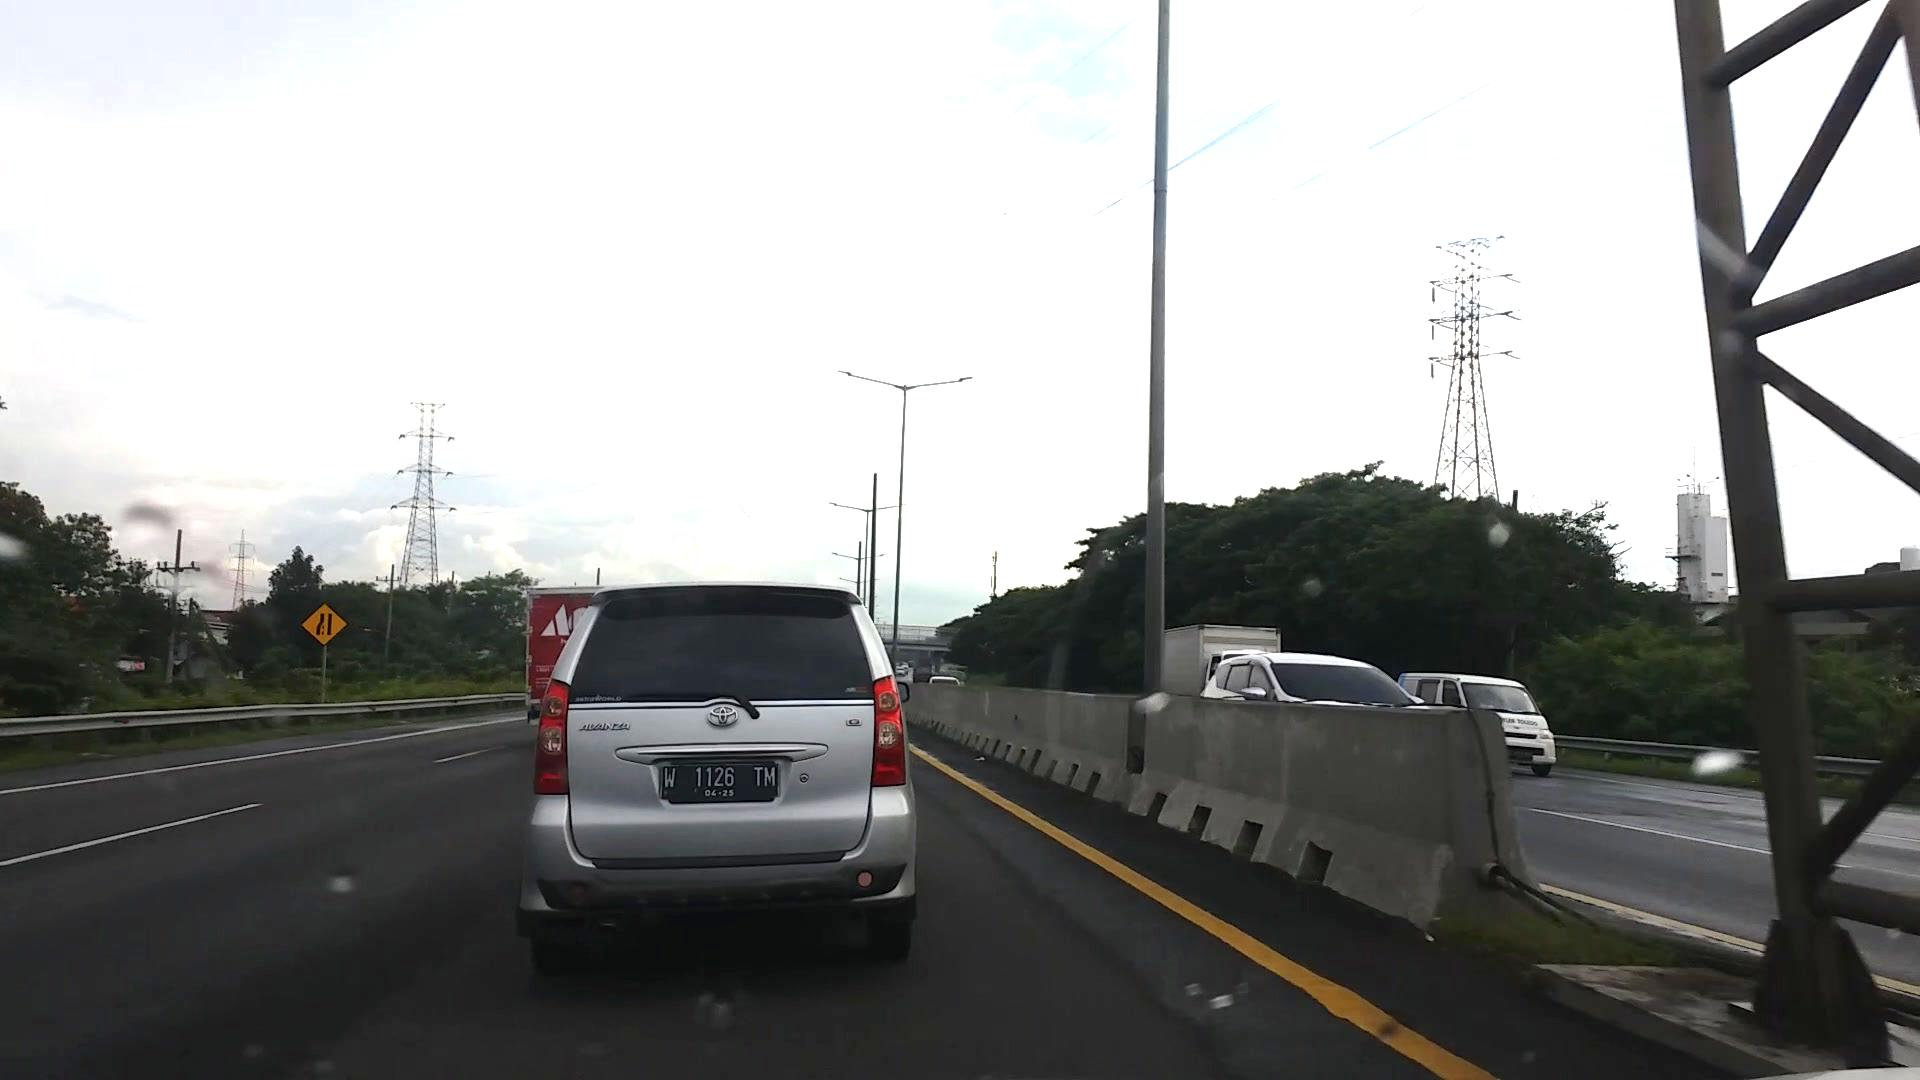plate_positive: (658, 764, 781, 804)
